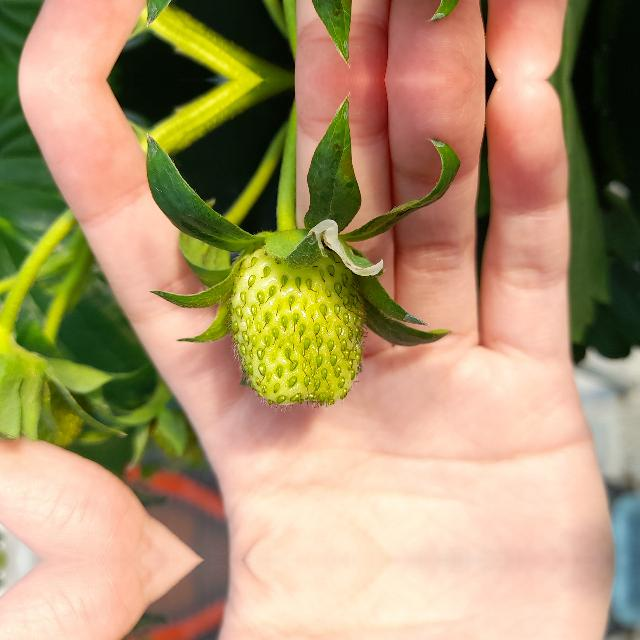Health_25: (227, 242, 366, 406)
